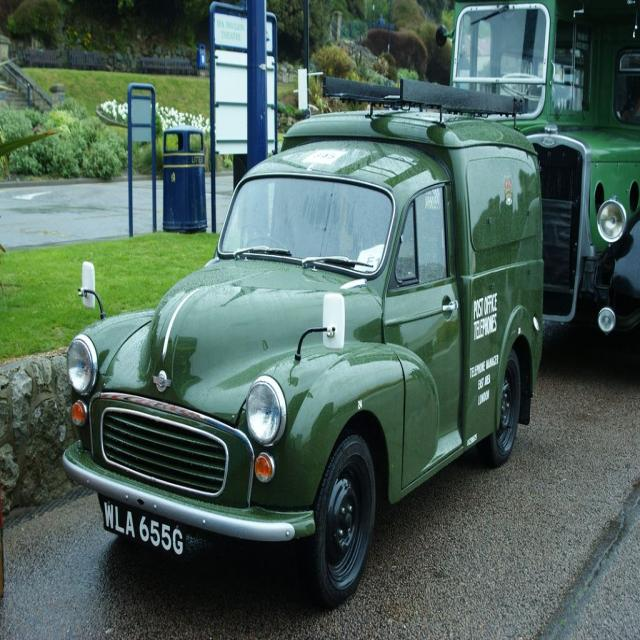car: (59, 74, 544, 616)
